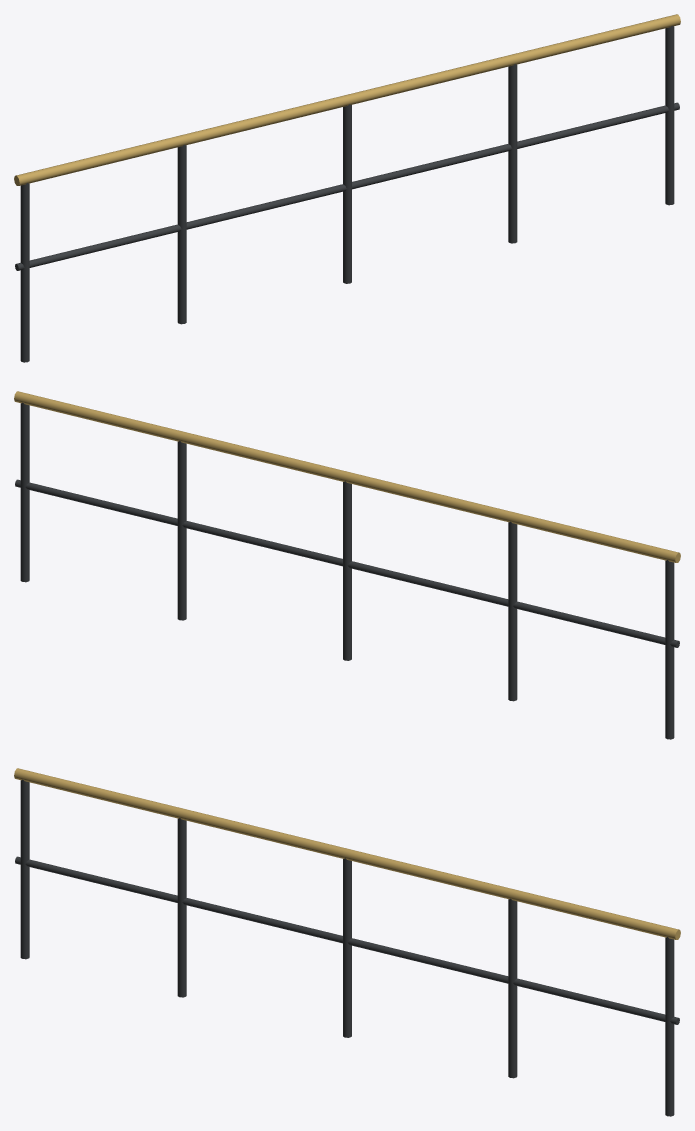
File: SM_Railing.fbx
The picture shows the model from 3 angles, top to bottom: view 1: azimuth 30°, elevation 25°; view 2: azimuth 150°, elevation 25°; view 3: azimuth 330°, elevation 25°; orthographic projection.
Visible parts, largest first — view 1: SM_Railing; view 2: SM_Railing; view 3: SM_Railing.
Part boxes in pixels (x1,y1,x2,y2): SM_Railing: (14,14,680,362); SM_Railing: (14,391,680,739); SM_Railing: (14,768,680,1116).
Size of what is drawn, in the model's own units: 4 by 1.08 by 0.06.
